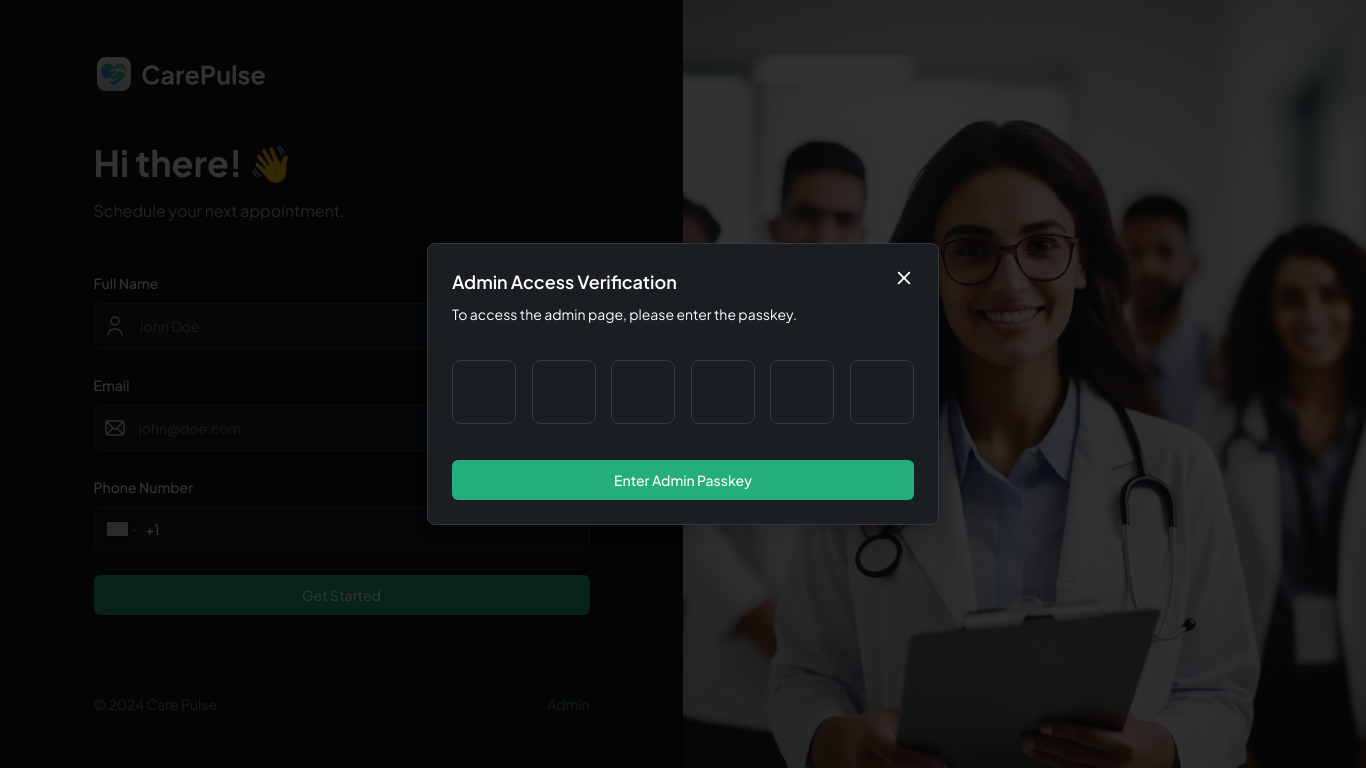
Test: Appointment Page › should be able to close the passkey modal
Click the picture named "Close button" at coordinates (904, 278), box [894,268,914,288]
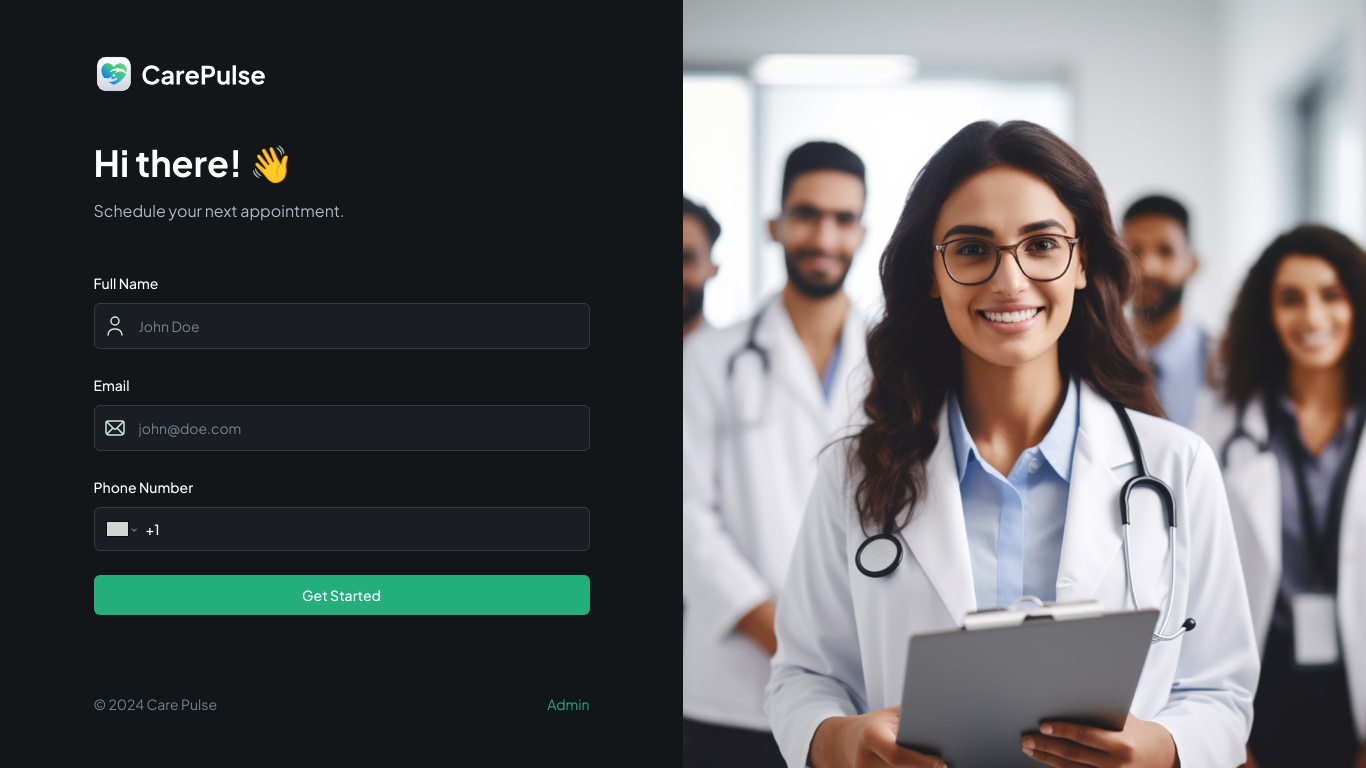
Expected: the picture is gone
